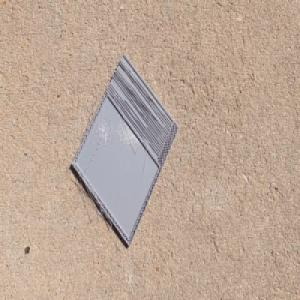PlasticPart: (70, 52, 180, 248)
